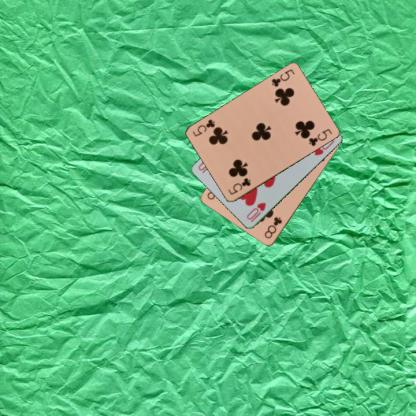10h: (244, 200, 267, 224)
5c: (268, 66, 296, 88), (225, 175, 252, 197)
8c: (262, 214, 284, 240)
